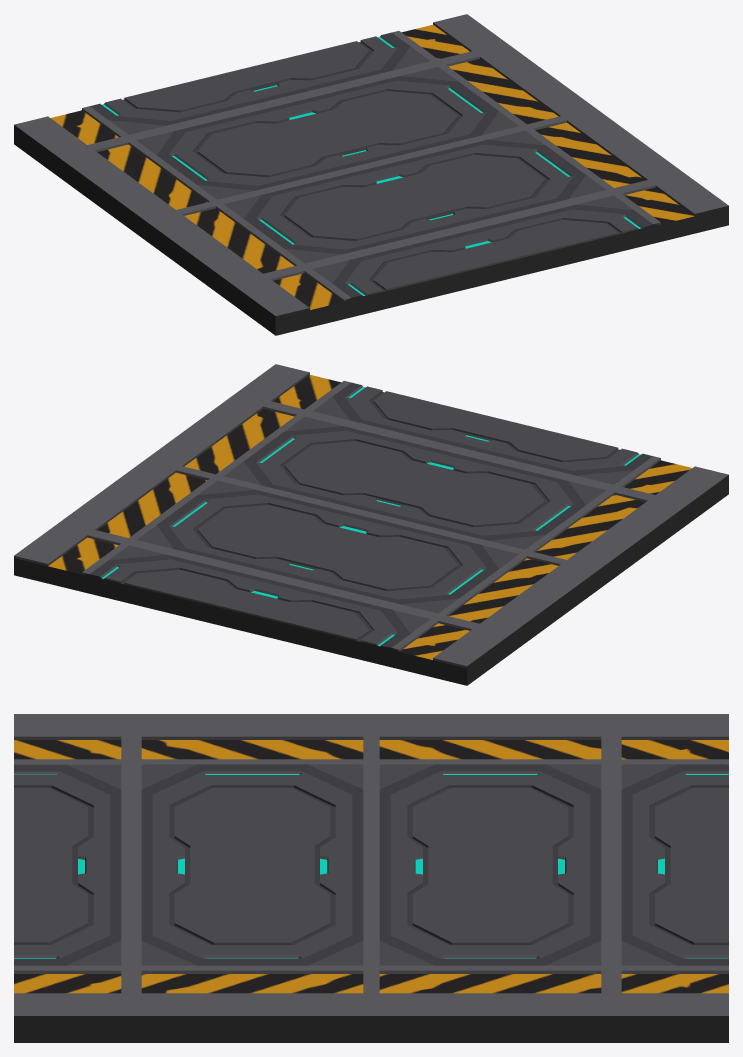
File: SM_Bld_Floor_01.glb
3 renders of one model, top to bottom at view 1: azimuth 30°, elevation 25°; view 2: azimuth 150°, elevation 25°; view 3: azimuth 270°, elevation 25°, orthographic. The views are drawn at different scales.
Visible parts, largest first — view 1: SM_Bld_Floor_01; view 2: SM_Bld_Floor_01; view 3: SM_Bld_Floor_01.
Boxes of the visible parts, x1,y1,x2,y2 form: SM_Bld_Floor_01: [14, 14, 728, 335]; SM_Bld_Floor_01: [14, 364, 728, 685]; SM_Bld_Floor_01: [14, 714, 728, 1042].
Size of the model in its own units: 5 by 0.2068 by 5.
1 material, 1 textured.
